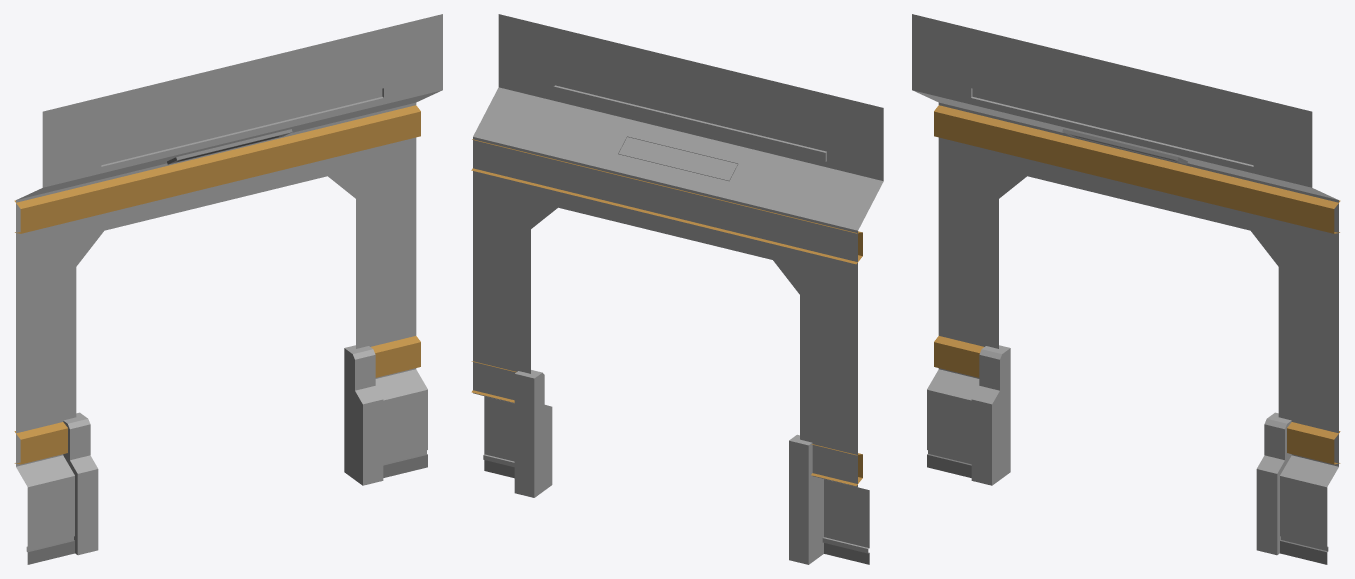
The model's file is DoorDouble_Wall_SideB.gltf.
3 views of the same model, side by side, from view 1: azimuth 30°, elevation 25°; view 2: azimuth 150°, elevation 25°; view 3: azimuth 330°, elevation 25° (orthographic). The views are drawn at different scales.
Visible parts, largest first — view 1: DoorDouble_Wall_SideB; view 2: DoorDouble_Wall_SideB; view 3: DoorDouble_Wall_SideB.
Boxes of the visible parts, left/top/right/bottom form: DoorDouble_Wall_SideB: left=14, top=14, right=442, bottom=564; DoorDouble_Wall_SideB: left=471, top=14, right=883, bottom=564; DoorDouble_Wall_SideB: left=912, top=14, right=1340, bottom=564.
Bounding box in the file's own units: 4 × 4.43 × 0.5307.
